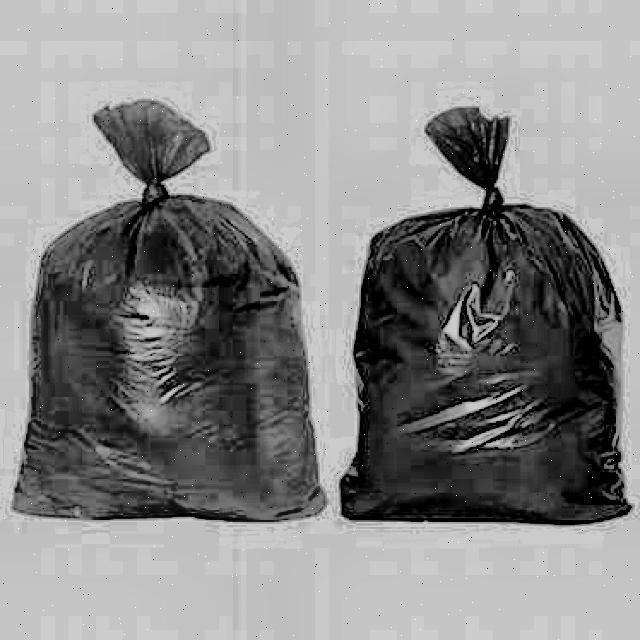Trashbag: (0, 146, 342, 530), (338, 170, 632, 534)
